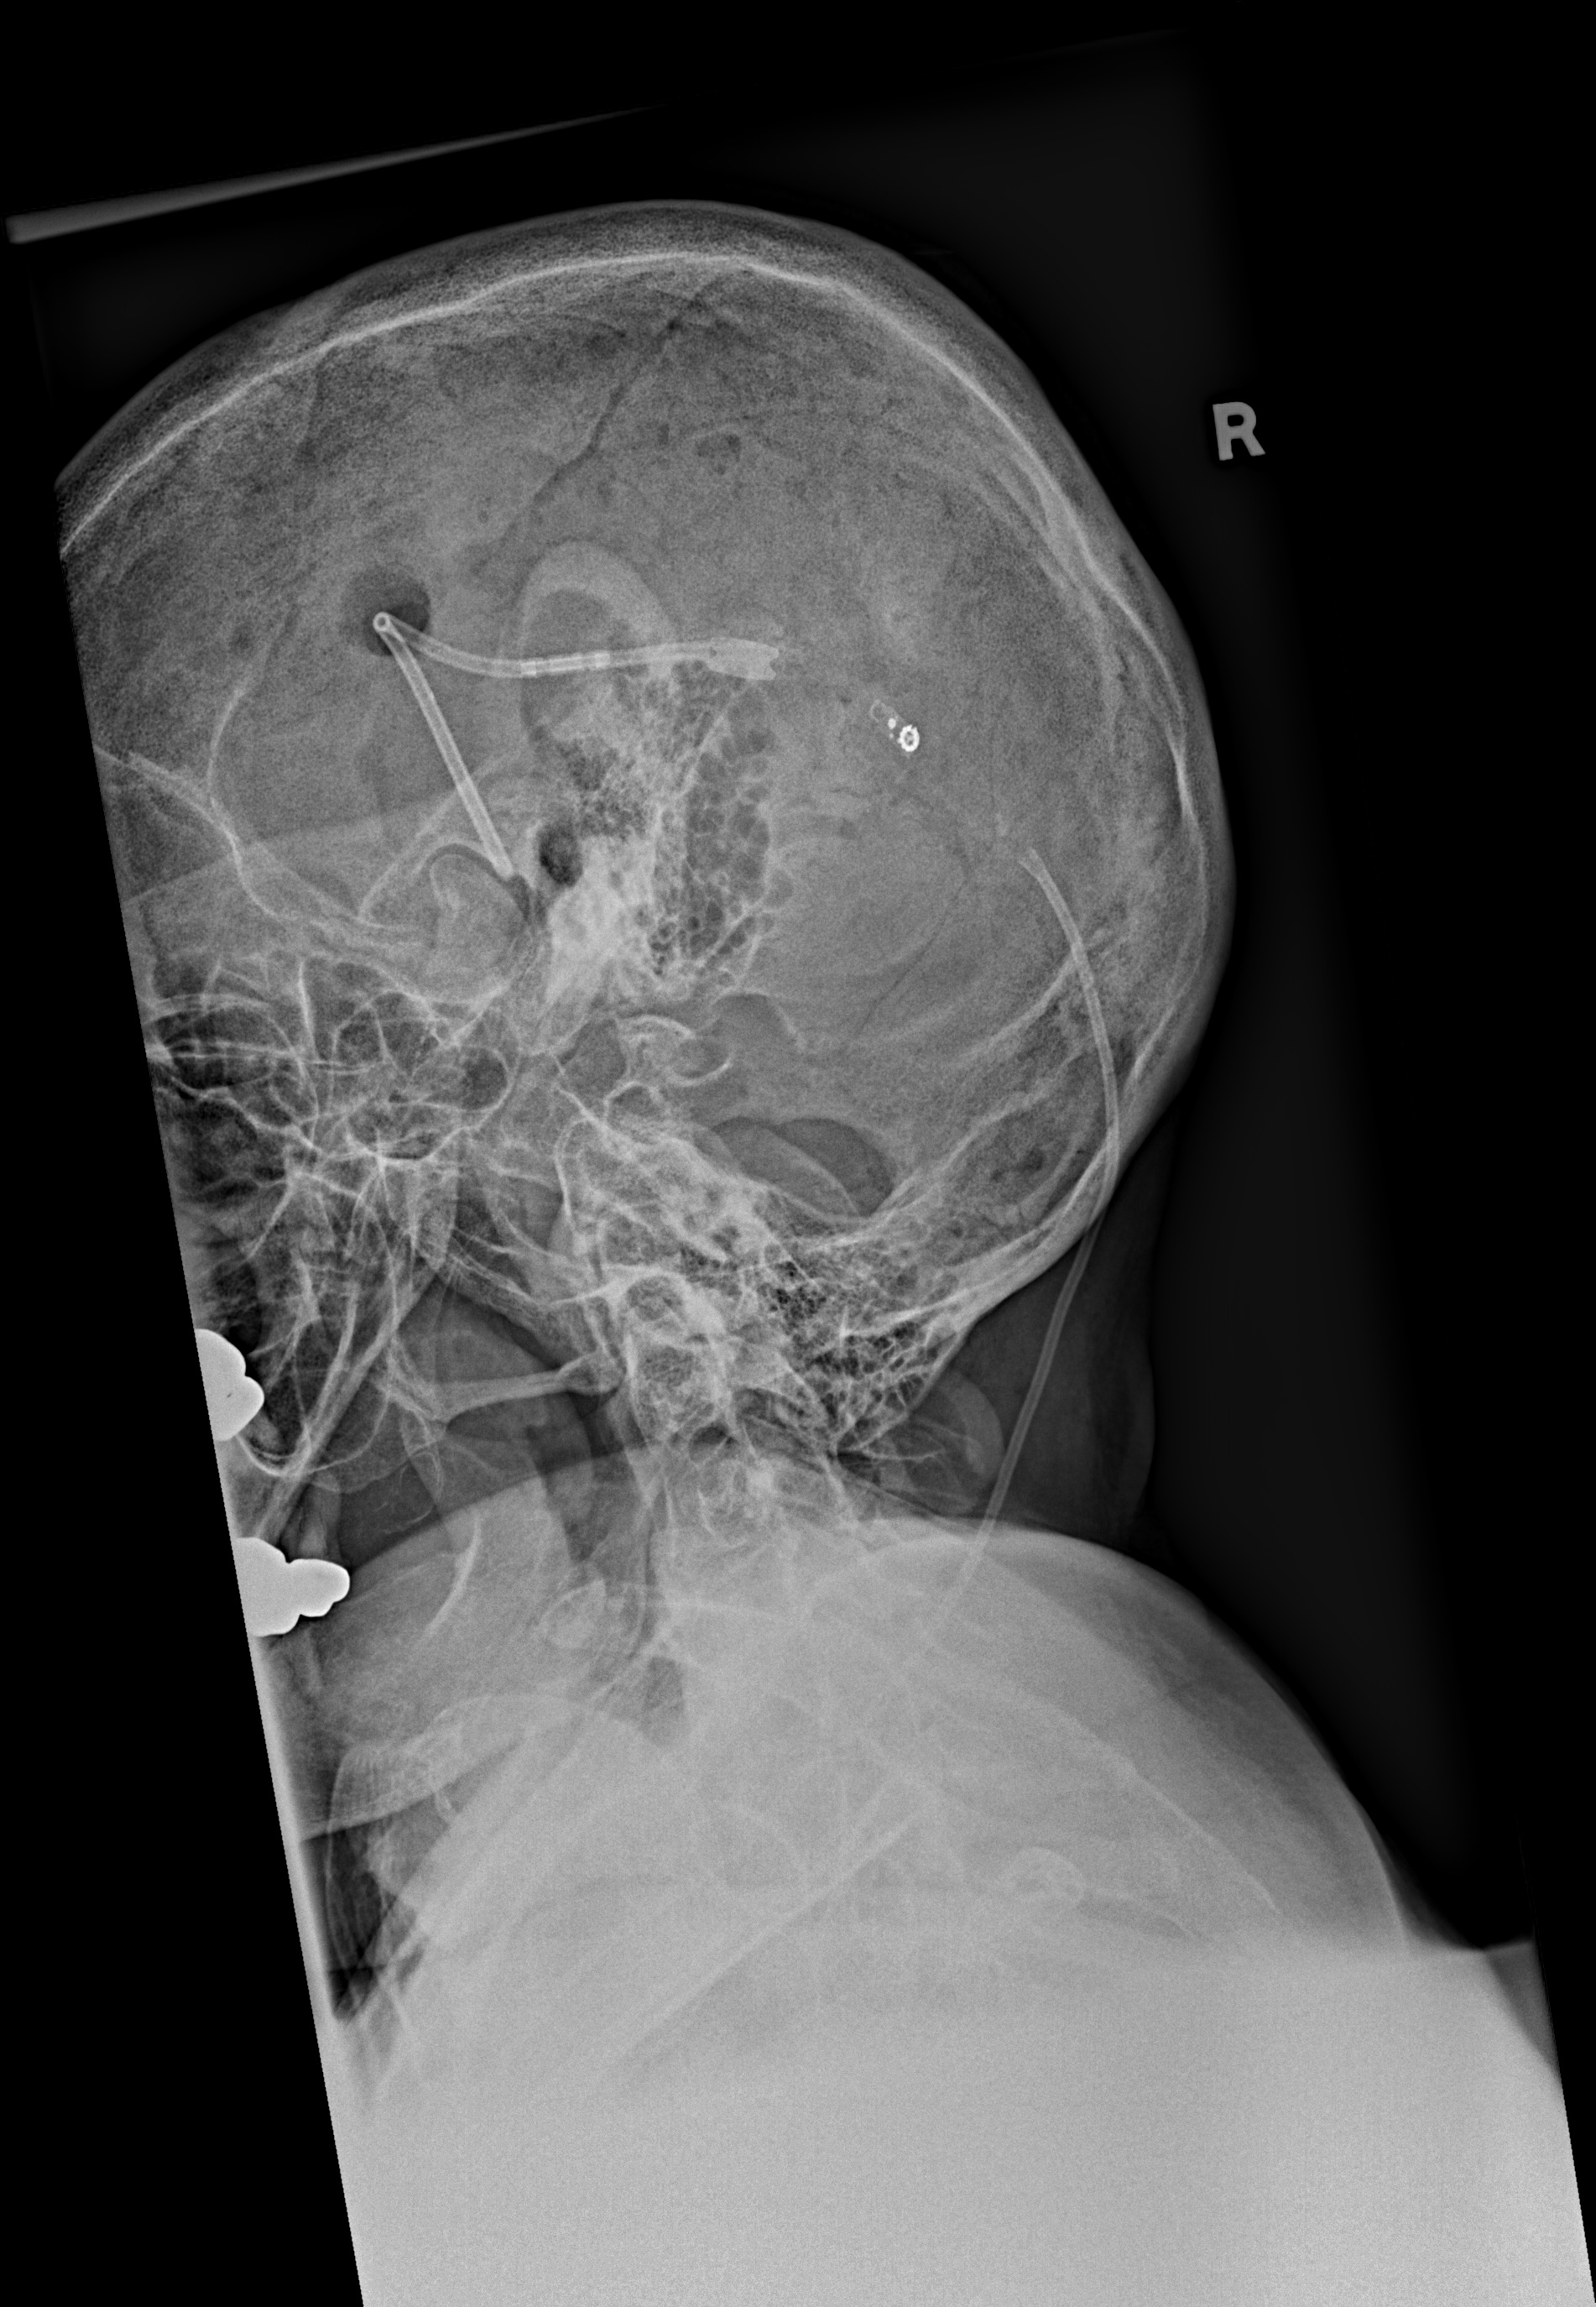Codman Hakim: (865, 698, 932, 764)
